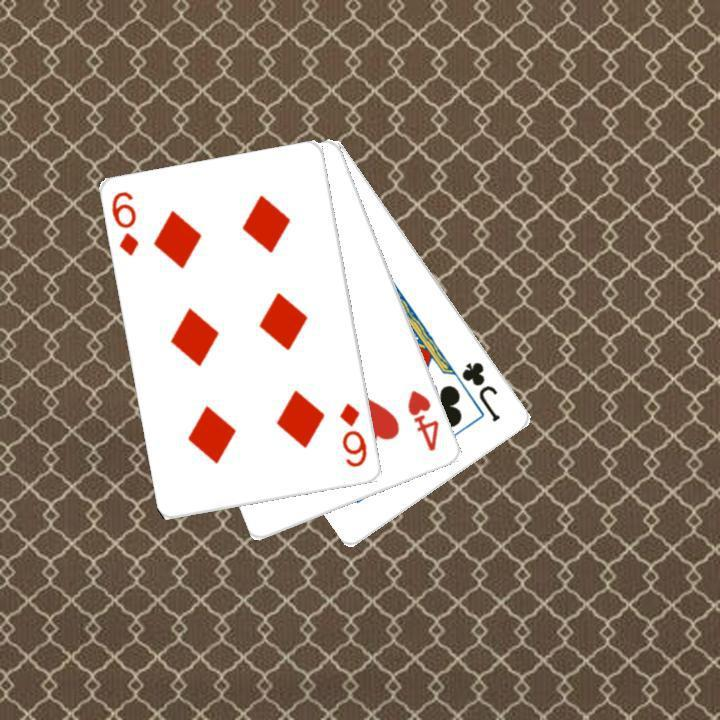4: (403, 386, 442, 454)
6: (335, 399, 370, 470), (107, 187, 141, 258)
J: (457, 357, 503, 424)
